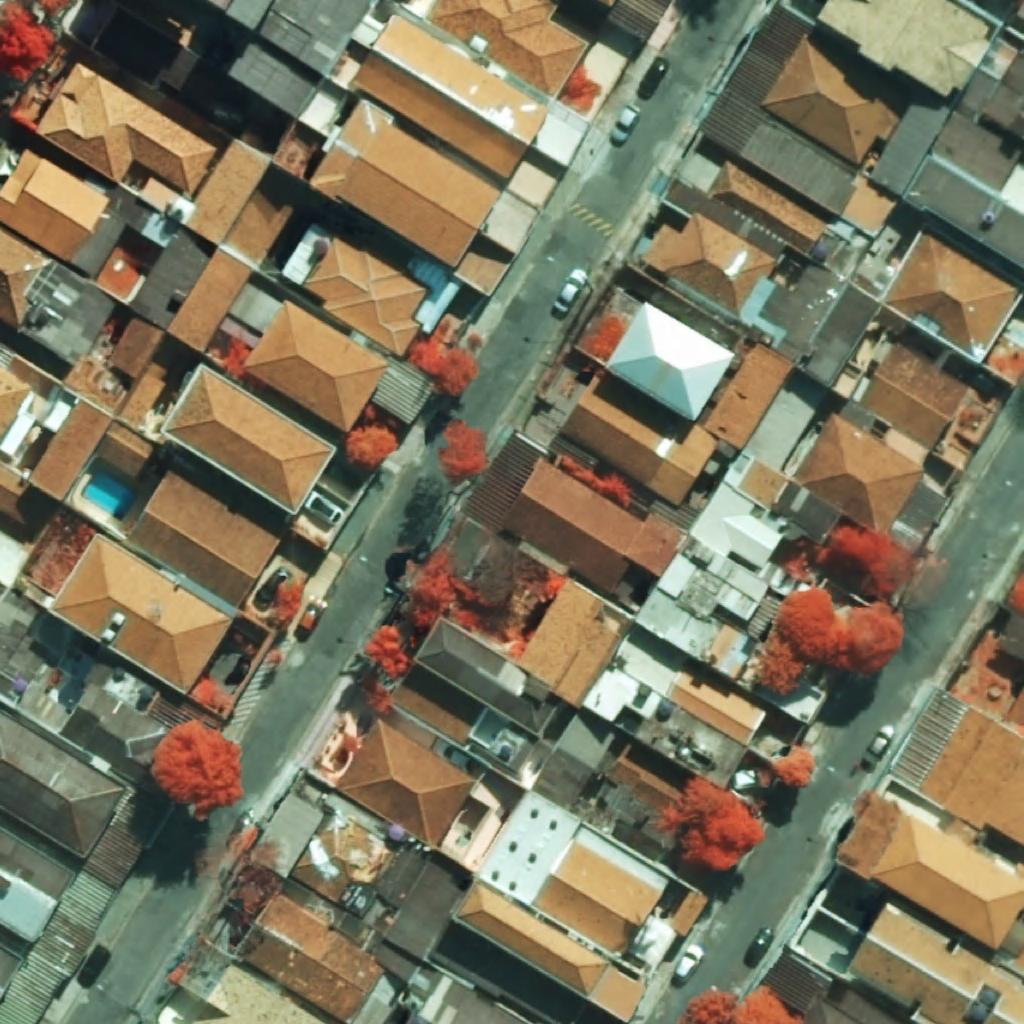pool: (81, 469, 138, 520)
